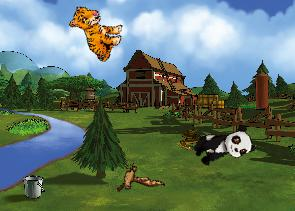eagle: (108, 153, 165, 205)
panda: (190, 122, 256, 170)
tiger: (61, 2, 128, 64)
